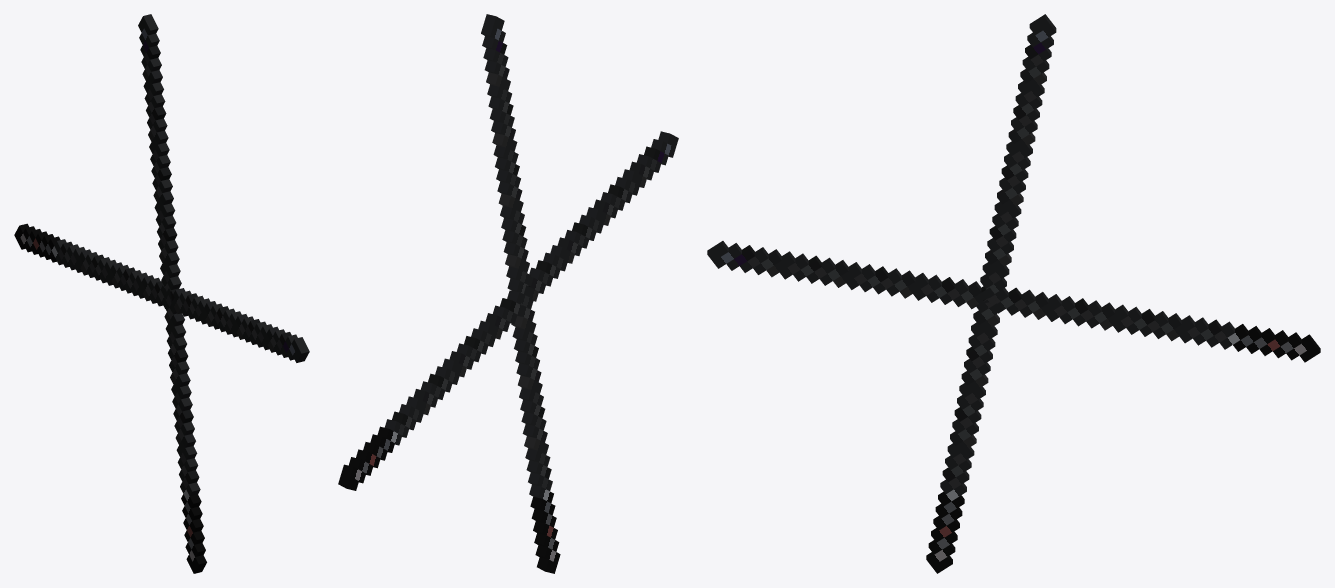
Rendered from dragonsteel_fire_pike.glb.
3 views of the same model, side by side, from view 1: azimuth 30°, elevation 25°; view 2: azimuth 150°, elevation 25°; view 3: azimuth 270°, elevation 25° (orthographic). The views are drawn at different scales.
Visible parts, largest first — view 1: off__Tool_L, main__Tool_R; view 2: off__Tool_L, main__Tool_R; view 3: main__Tool_R, off__Tool_L.
Boxes of the visible parts, box(x1,y1,x2,y2) form: off__Tool_L: box(138, 14, 206, 573); main__Tool_R: box(14, 223, 309, 362); off__Tool_L: box(481, 14, 560, 573); main__Tool_R: box(338, 131, 678, 490); main__Tool_R: box(707, 241, 1320, 362); off__Tool_L: box(926, 14, 1056, 573).
Bounding box in the file's own units: 0.0625 × 3.75 × 3.75.
1 material, 1 textured.
